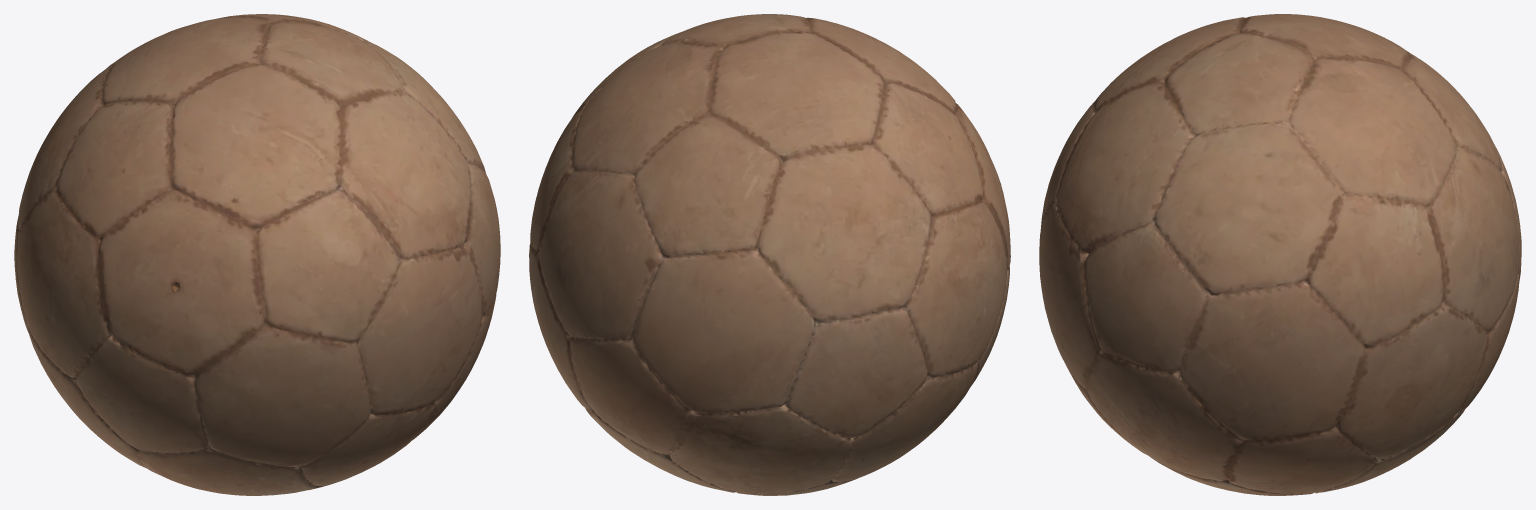
The model's file is football-polyhaven-dirty.glb.
3 views of the same model, side by side, from view 1: azimuth 30°, elevation 25°; view 2: azimuth 150°, elevation 25°; view 3: azimuth 270°, elevation 25° (orthographic).
Visible parts, largest first — view 1: dirty_football; view 2: dirty_football; view 3: dirty_football.
Part boxes in pixels (x1,y1,x2,y2): dirty_football: [14, 14, 500, 495]; dirty_football: [529, 14, 1010, 495]; dirty_football: [1039, 14, 1521, 495].
Bounding box in the file's own units: 0.2214 × 0.22 × 0.22.
Materials: 1 (1 with a texture image).
